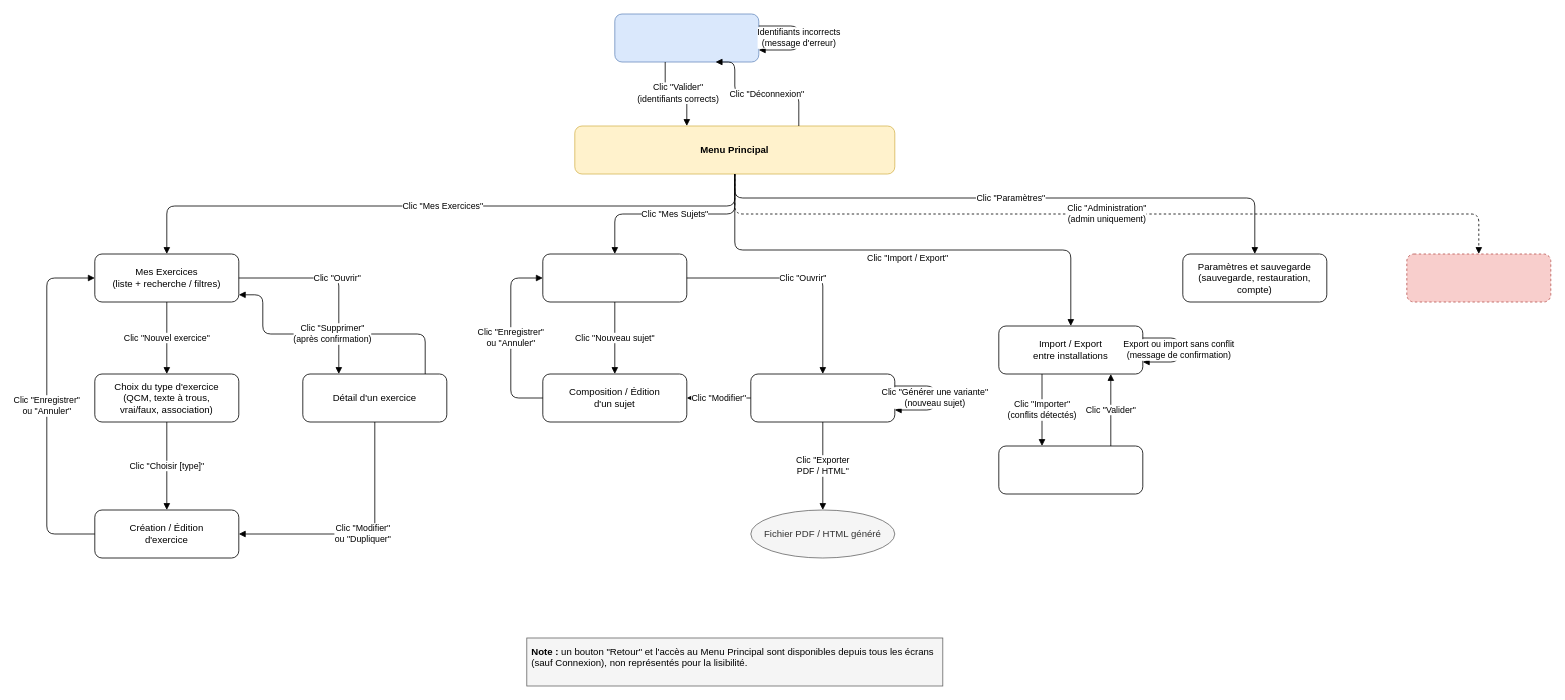
The diagram is 1565 pixels wide and 700 high, and some of its shapes have lost their labels. Each missing label, with the box of its shape:
Connexion: (614, 13, 759, 62)
Détail d'un sujet: (750, 373, 895, 422)
Gestion des comptes (rôle administrateur): (1406, 253, 1551, 302)
Mes Sujets (liste): (542, 253, 687, 302)
Résolution de conflits (doublons): (998, 445, 1143, 494)
